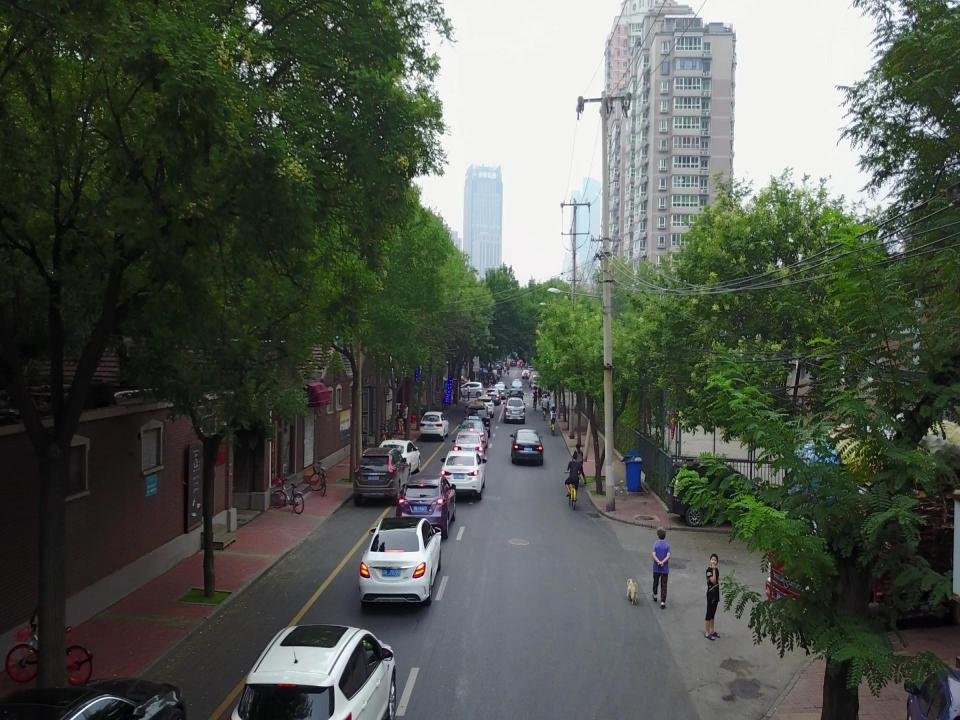car: (232, 622, 395, 720), (358, 515, 444, 611), (3, 679, 188, 720), (661, 459, 771, 527), (397, 471, 457, 537), (354, 448, 410, 501), (439, 449, 487, 503), (377, 436, 421, 474), (509, 427, 545, 466), (451, 431, 485, 464), (458, 416, 488, 448), (420, 411, 450, 441), (475, 396, 495, 417), (457, 382, 483, 397), (484, 388, 500, 405), (492, 382, 508, 399), (508, 389, 524, 404), (510, 378, 524, 393), (531, 374, 545, 388), (529, 370, 540, 384), (521, 369, 530, 379)
truck: (760, 490, 958, 626)
van: (464, 399, 490, 438), (503, 397, 526, 424)
